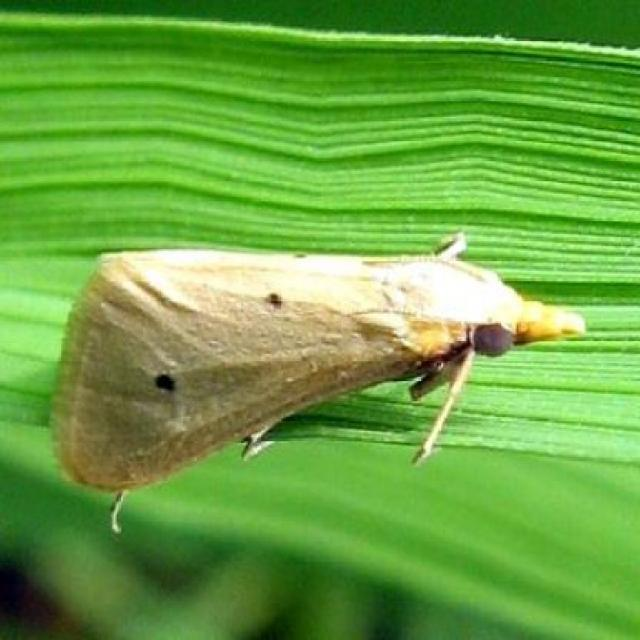stem-borer: (43, 228, 589, 532)
